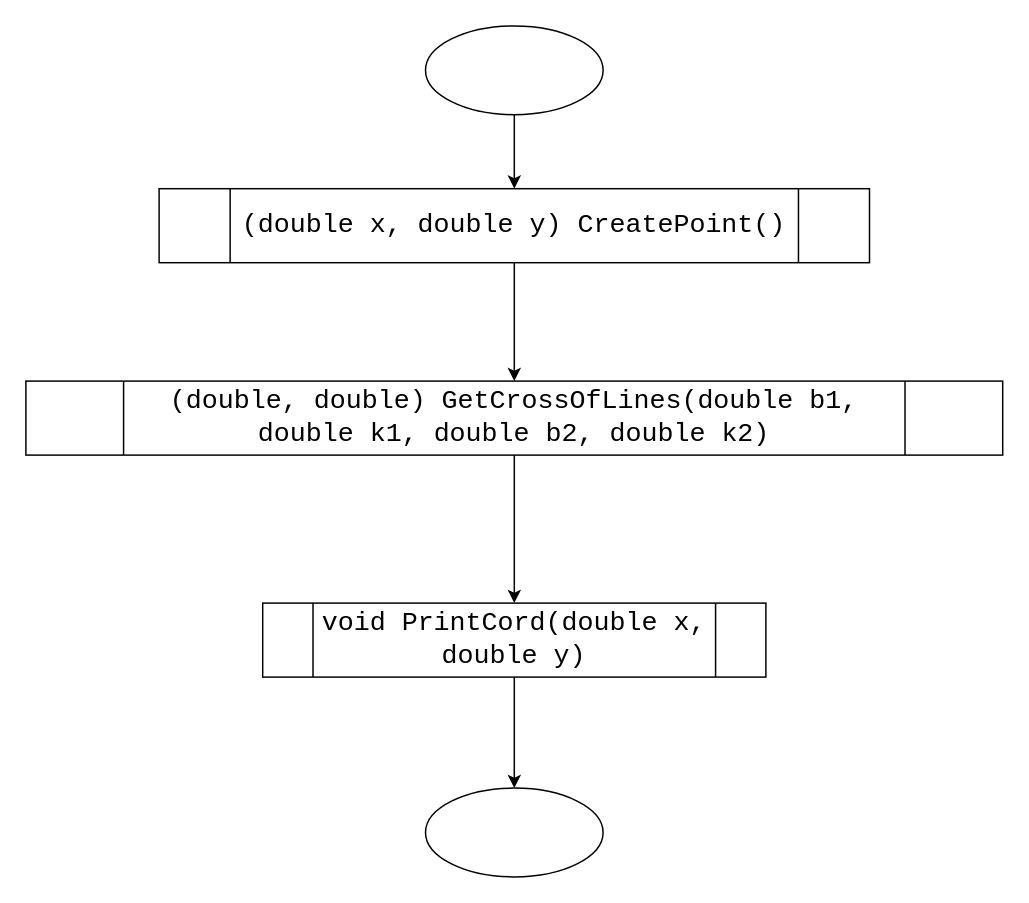
Image size: 1029x903. Some labels were removed from this diagram. Each missing label, with the box of its shape:
End: (424, 787, 603, 877)
start: (424, 24, 603, 115)
